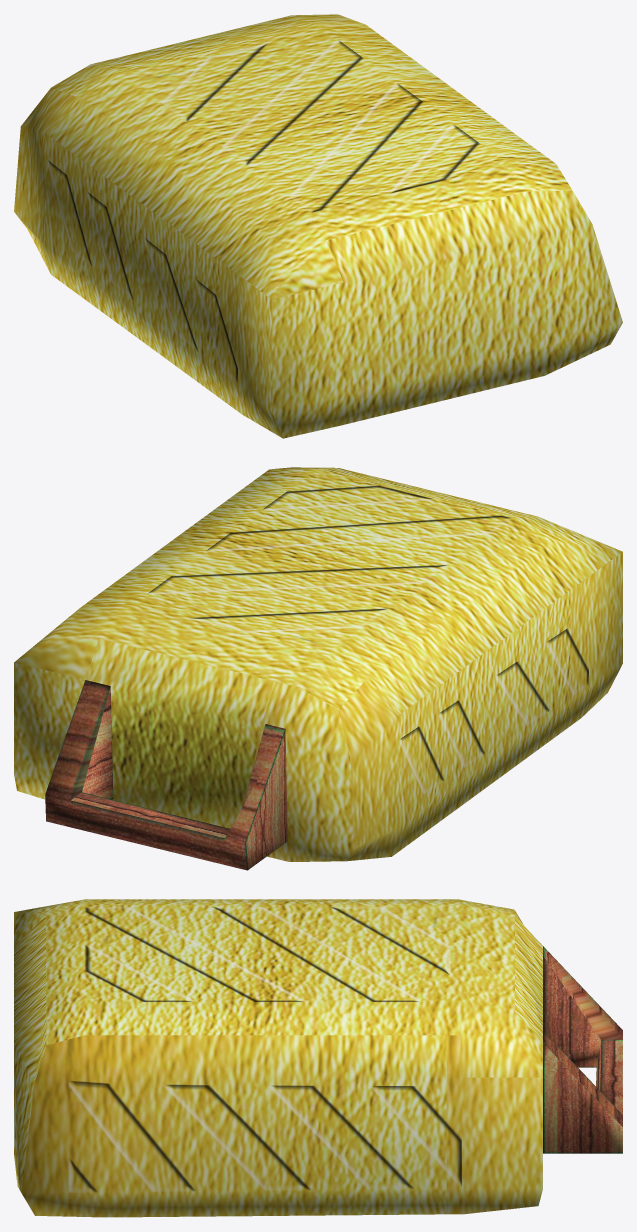
File: SuitCaseYellow.FBX
3 renders of one model, top to bottom at view 1: azimuth 30°, elevation 25°; view 2: azimuth 150°, elevation 25°; view 3: azimuth 270°, elevation 25°, orthographic.
Visible parts, largest first — view 1: Box002; view 2: Box002; view 3: Box002.
Part boxes in pixels (x1,y1,x2,y2): Box002: [14, 14, 622, 438]; Box002: [14, 467, 622, 870]; Box002: [14, 899, 622, 1217].
Bounding box in the file's own units: 17.32 × 26.13 × 9.21.
